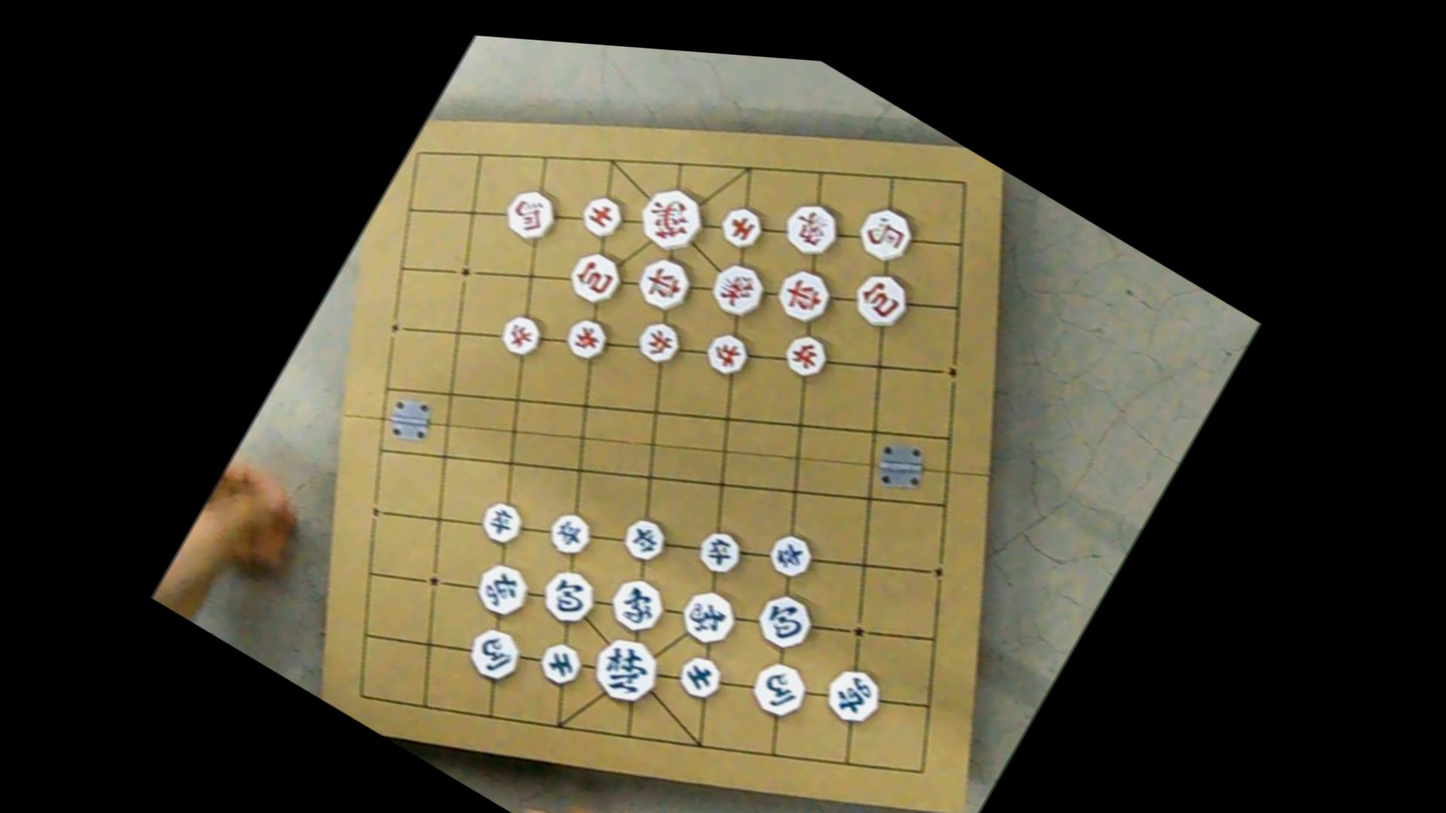cha_green: (816, 659, 887, 730), (468, 556, 535, 623)
cha_red: (768, 260, 837, 330), (629, 248, 697, 317)
jol_green: (761, 526, 817, 583), (541, 505, 596, 561), (616, 510, 671, 566), (691, 525, 746, 580), (474, 495, 526, 549)
jol_red: (777, 327, 833, 384), (632, 315, 685, 370), (494, 308, 547, 362), (700, 327, 753, 381), (560, 312, 612, 366)
ma_green: (743, 653, 813, 725), (460, 620, 528, 688)
ma_red: (850, 199, 918, 269), (497, 182, 562, 248)
po_green: (749, 586, 819, 657), (533, 562, 602, 631)
po_red: (845, 264, 916, 335), (561, 244, 628, 312)
sa_green: (670, 650, 726, 705), (532, 638, 586, 691)
sa_red: (713, 199, 767, 254), (575, 190, 627, 243)
sang_green: (673, 583, 742, 652), (601, 571, 670, 640)
sang_red: (776, 193, 846, 263), (703, 254, 772, 324)
wang_green: (582, 627, 667, 713)
wang_red: (630, 178, 711, 260)
